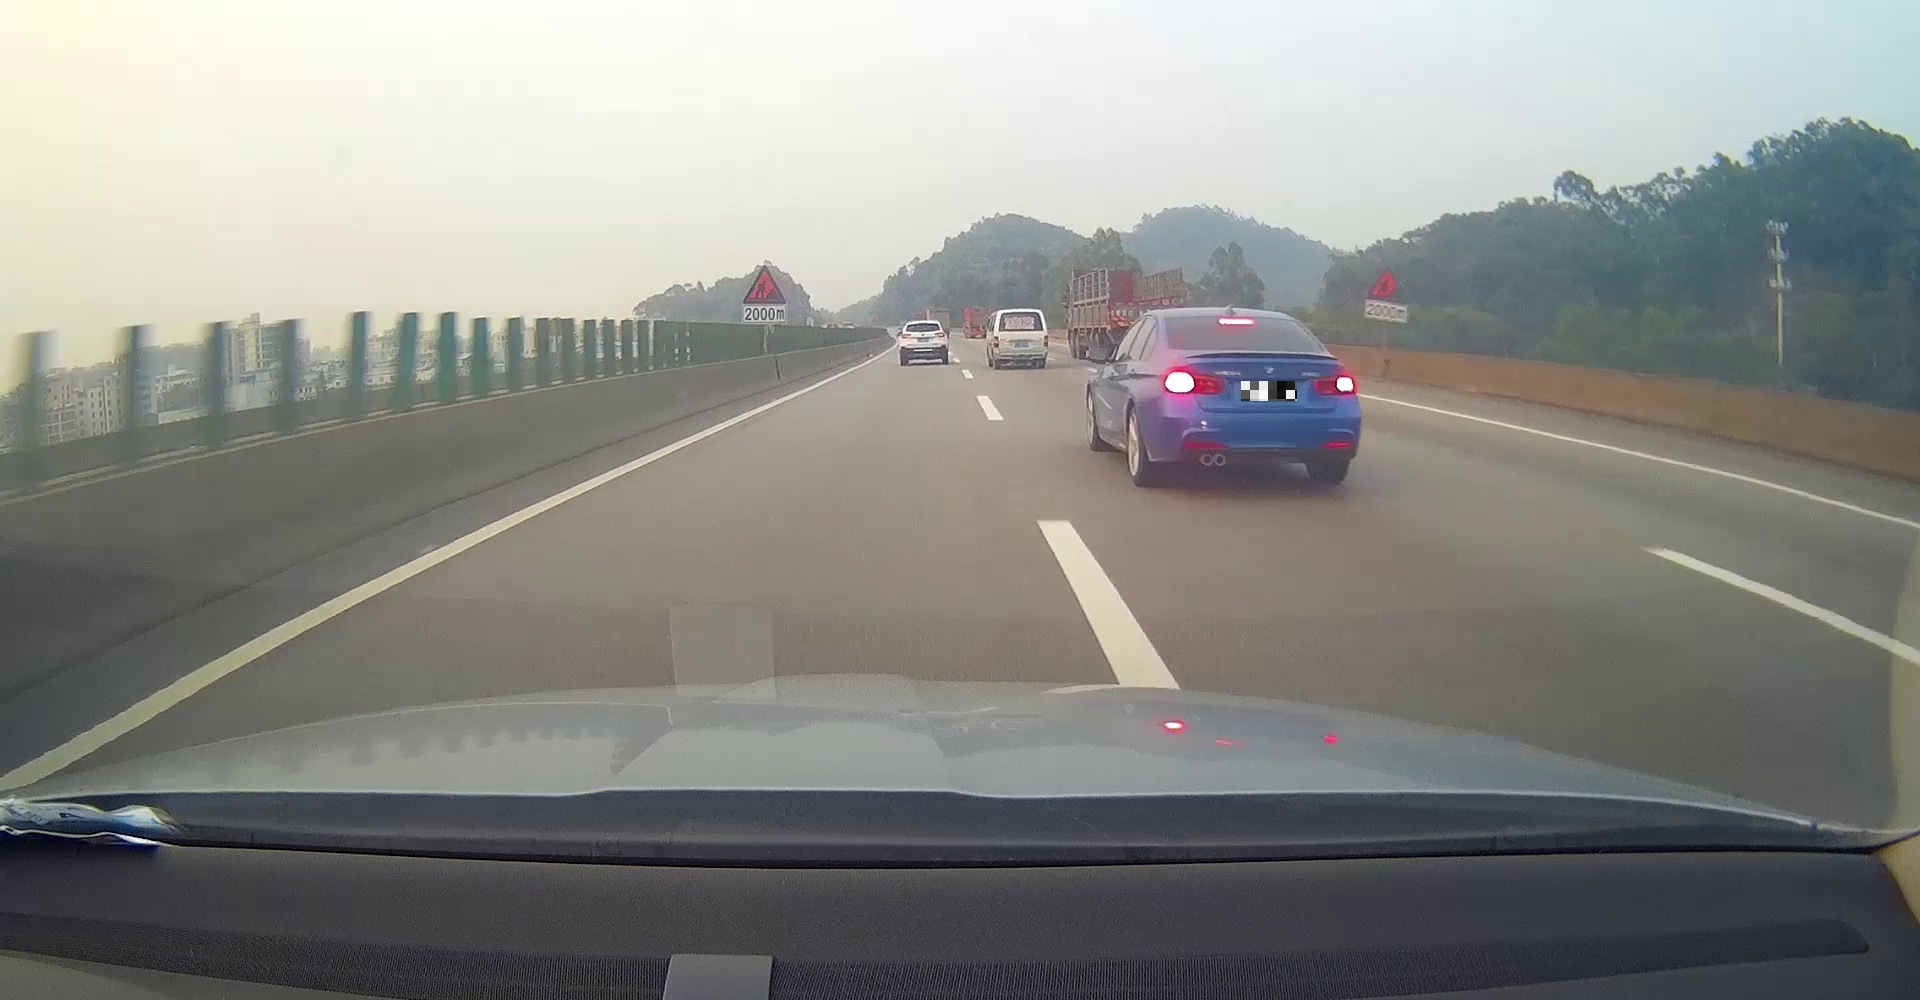L_light: (1161, 367, 1225, 395), (994, 335, 999, 349), (902, 332, 912, 338)
R_light: (1312, 372, 1356, 395), (1043, 335, 1048, 346), (935, 332, 945, 338)
T_light: (1219, 317, 1255, 325), (918, 324, 927, 326), (1016, 312, 1023, 315)
day-brake: (1158, 307, 1363, 485)
day-no: (994, 308, 1049, 369), (899, 320, 949, 365)
plate_1: (1241, 381, 1297, 401)
